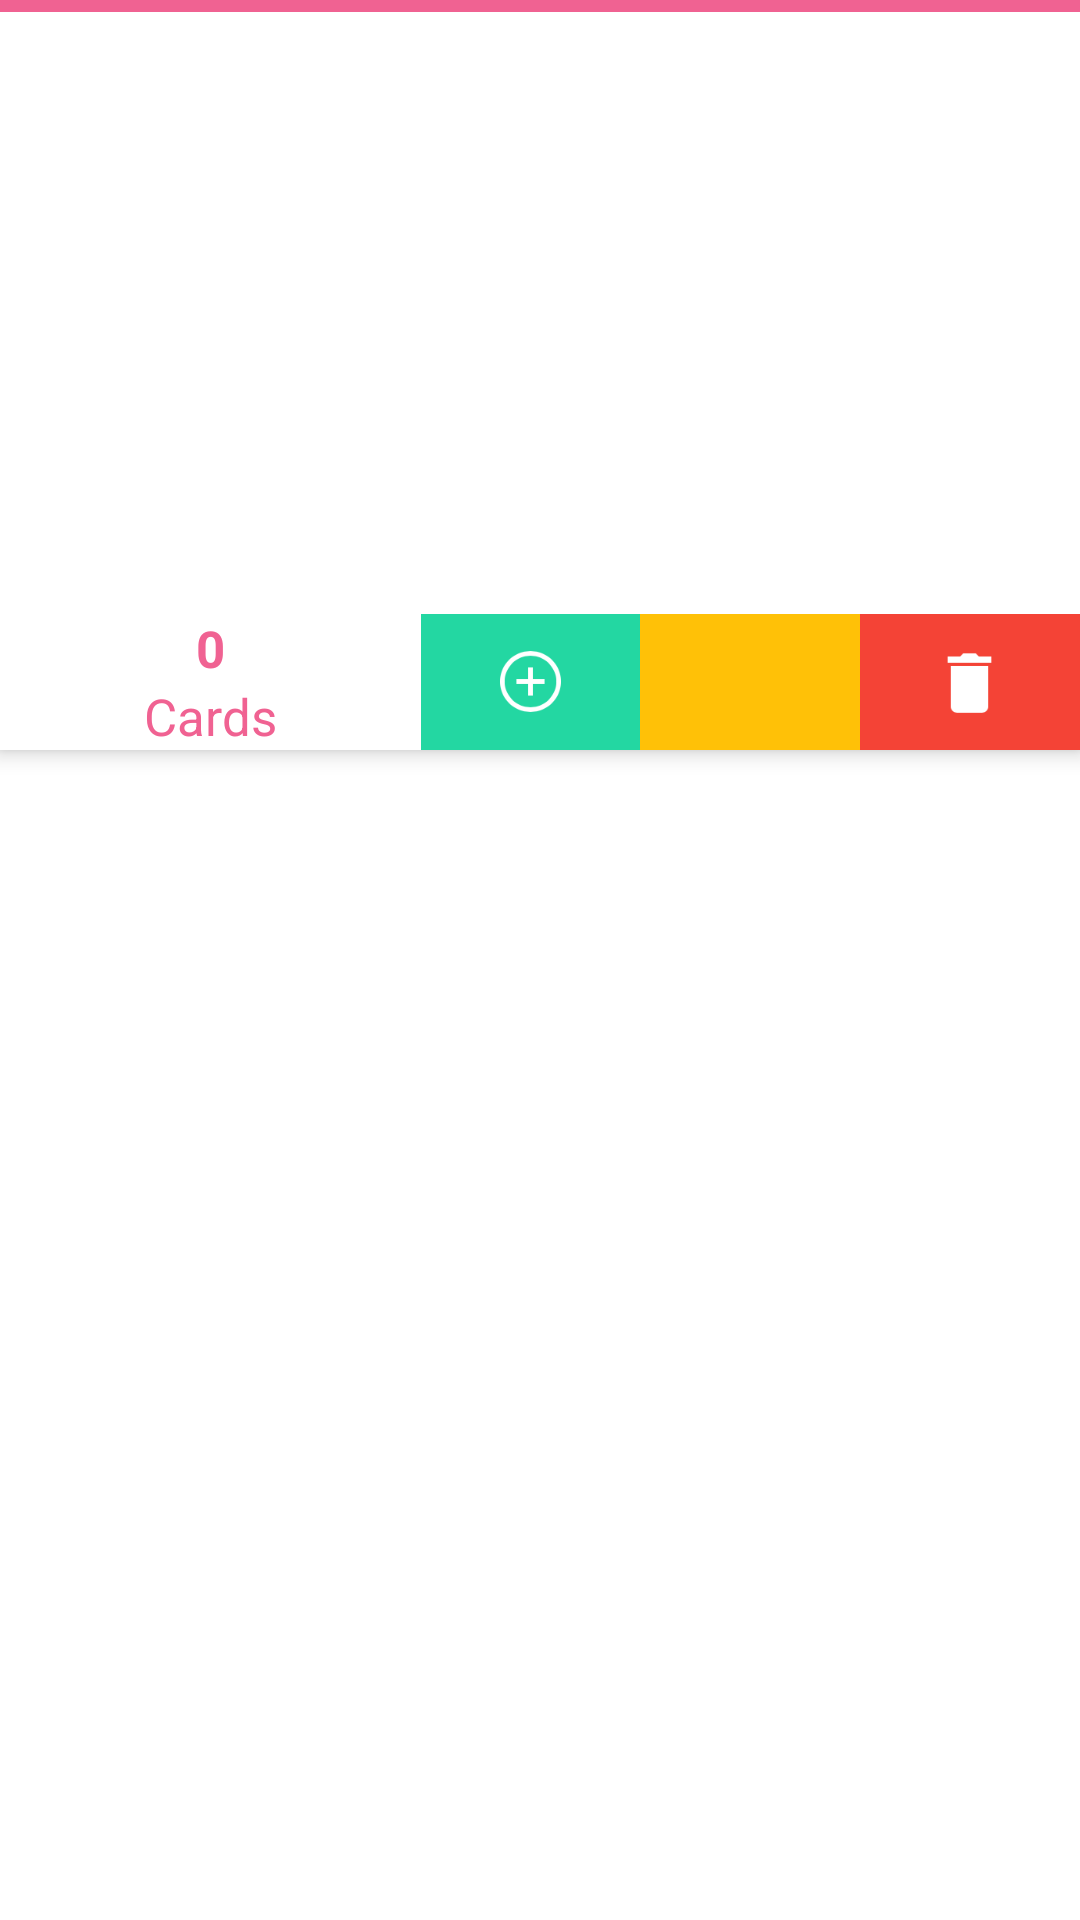

Point at icon controls on the screen. Image size 1080 × 1920, points as point (x, y).
add card: point (530, 681)
remove cl: point (969, 683)
